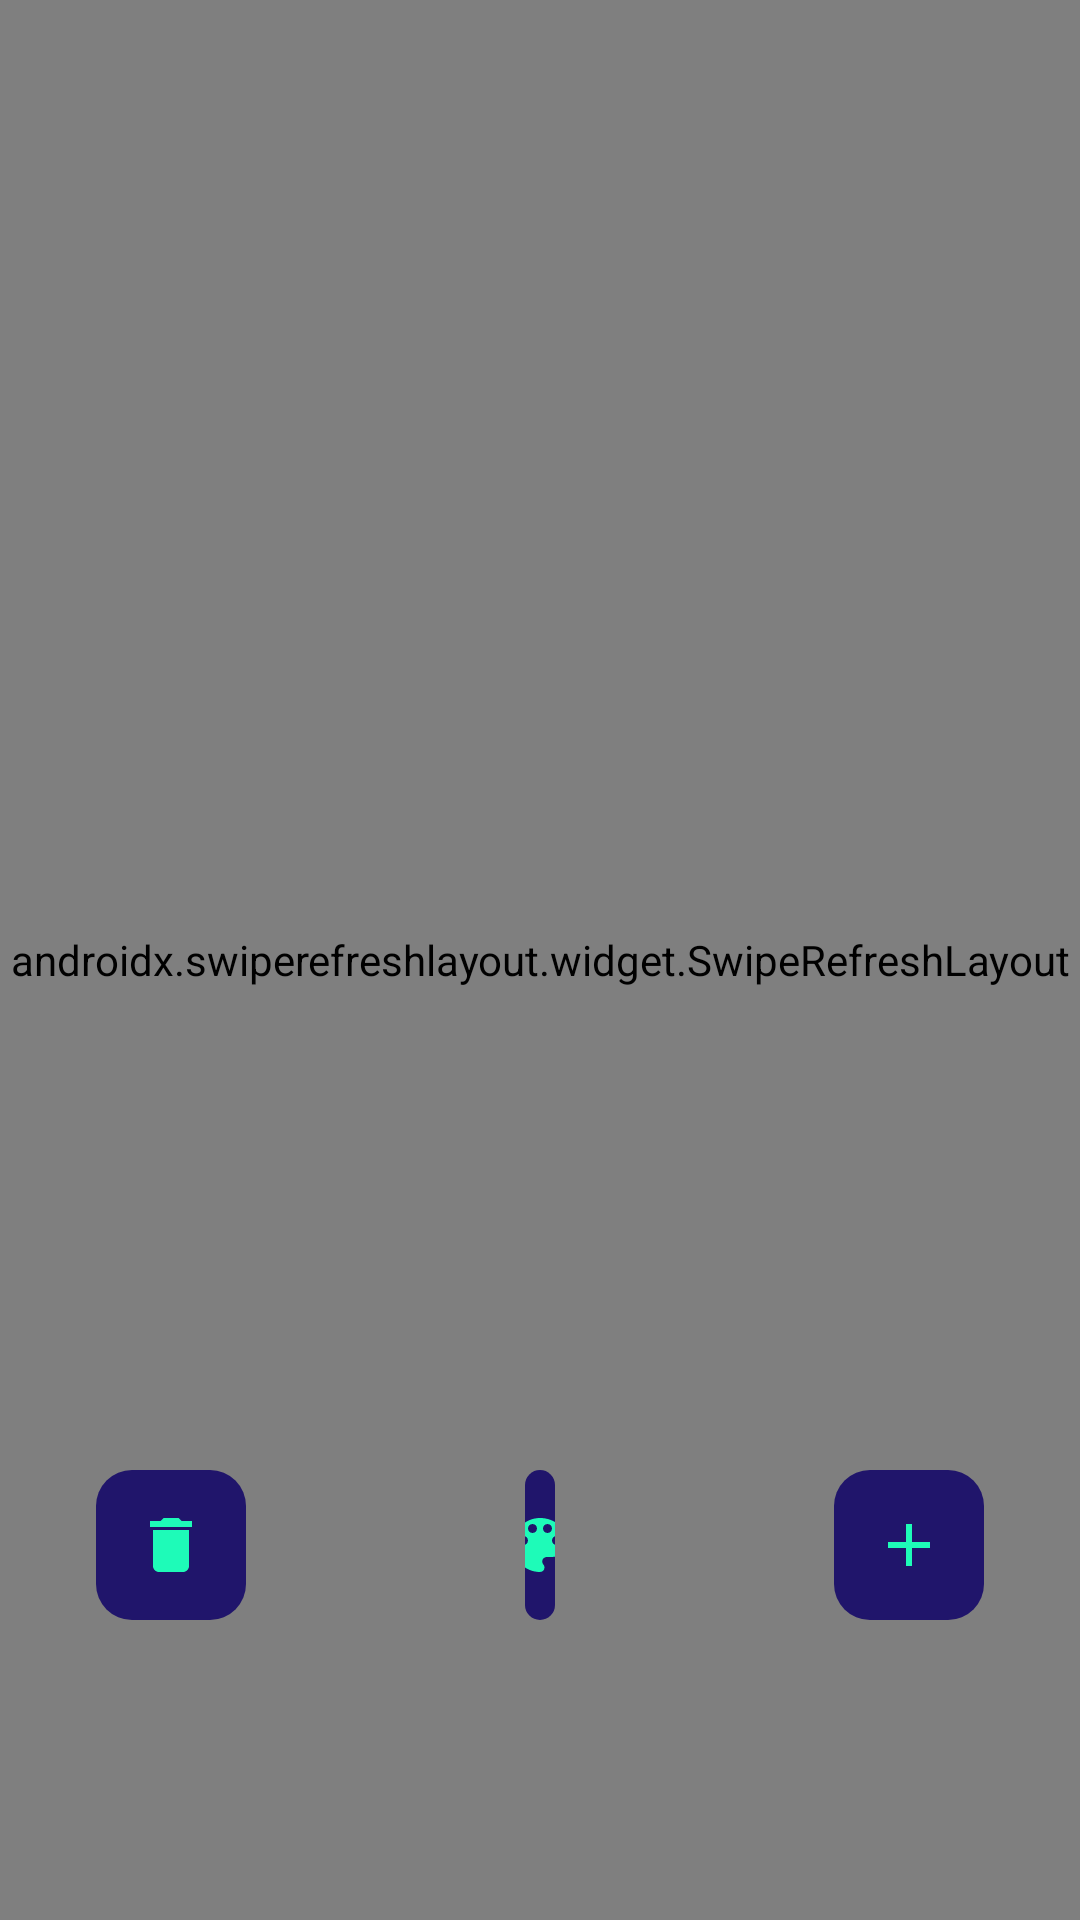

Icon bounding boxes for this 1080 x 1920 phone screenshot, format (x1, y1, x2, y2):
Add a habit: (834, 1470, 984, 1620)
Delete Habit: (96, 1470, 246, 1620)
Select Color: (525, 1470, 555, 1620)
